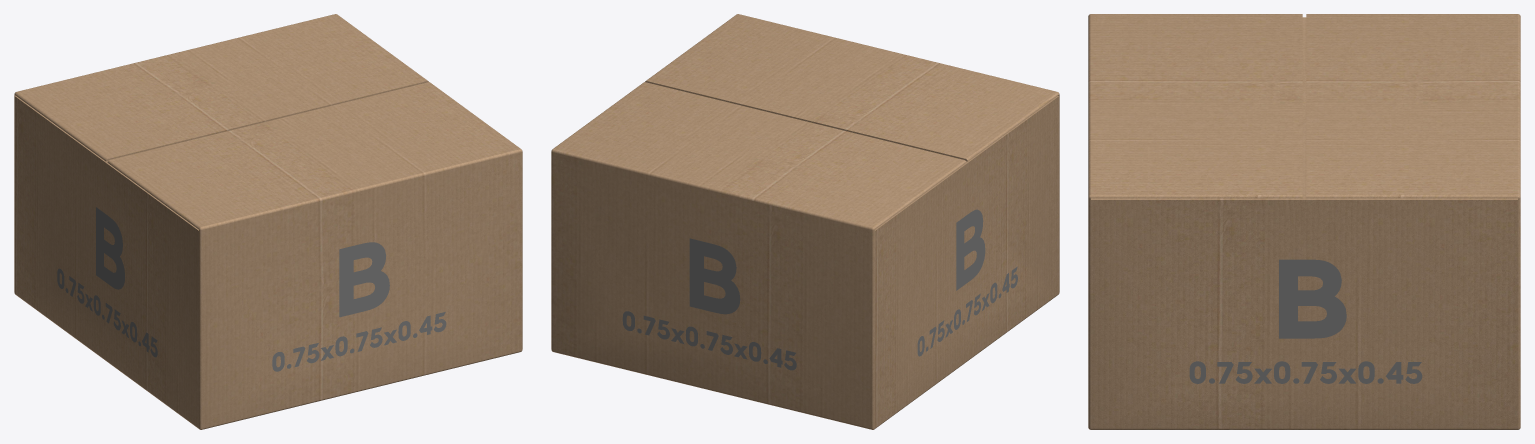
File: THUNG_B.glb
The picture shows the model from 3 angles, left to right: view 1: azimuth 30°, elevation 25°; view 2: azimuth 150°, elevation 25°; view 3: azimuth 270°, elevation 25°; orthographic projection. The views are drawn at different scales.
Visible parts, largest first — view 1: Geom3D (×2); view 2: Geom3D (×2); view 3: Geom3D (×2).
Part boxes in pixels (x1,y1,x2,y2): Geom3D (×2): (14,14,522,429); Geom3D (×2): (551,14,1059,429); Geom3D (×2): (1088,14,1520,429).
Size of the model in its own units: 0.75 by 0.45 by 0.75.
Materials: 2 (1 with a texture image).
